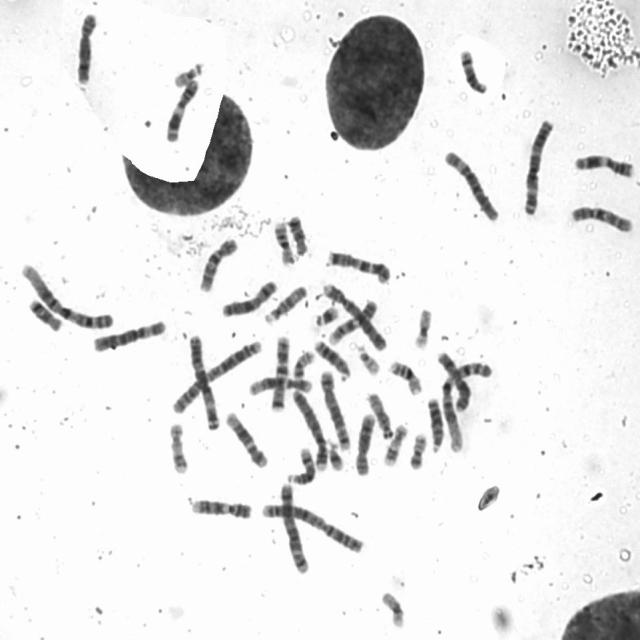A1: (15, 256, 116, 331), (436, 354, 495, 454)
A2: (166, 333, 264, 416), (257, 496, 366, 554)
A3: (518, 113, 556, 216), (185, 330, 221, 431)
B4: (318, 276, 389, 352), (287, 385, 330, 472)
B5: (274, 477, 312, 575), (315, 362, 352, 452)
C10: (194, 231, 240, 294), (565, 199, 635, 234)
C11: (160, 73, 200, 143), (568, 147, 636, 179)
C12: (220, 406, 270, 470), (244, 370, 314, 397)
C6: (439, 143, 501, 223), (88, 313, 168, 354)
C7: (322, 244, 392, 285), (266, 329, 292, 413)
C8: (70, 5, 100, 86), (350, 408, 378, 478)
C9: (324, 295, 379, 346), (186, 492, 254, 521)
D13: (309, 334, 352, 382), (422, 392, 446, 452)
D14: (455, 43, 489, 95), (282, 442, 317, 486)
D15: (260, 278, 309, 324), (362, 386, 395, 439)
E16: (384, 354, 424, 396), (269, 215, 297, 266)
E17: (164, 416, 190, 476), (378, 418, 410, 466)
E18: (24, 293, 63, 332), (283, 209, 310, 257)
F19: (376, 585, 407, 630), (409, 302, 434, 350)
F20: (404, 426, 429, 471), (289, 346, 316, 380)
G21: (322, 433, 345, 473), (310, 299, 341, 327)
G22: (169, 55, 206, 88), (352, 341, 382, 376)
X: (216, 273, 279, 318), (432, 346, 473, 412)
